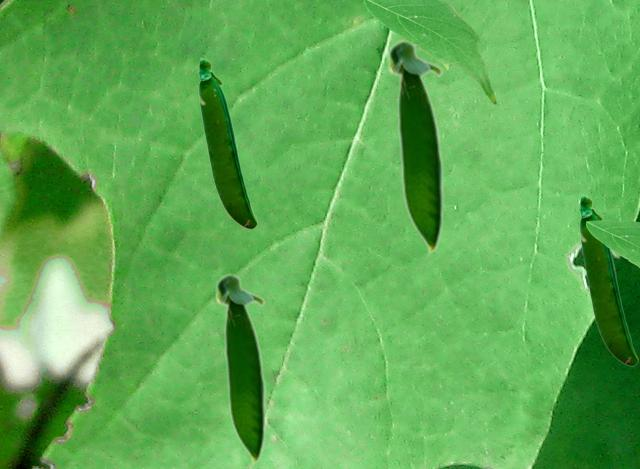pea: (386, 38, 443, 256), (197, 57, 256, 228), (578, 194, 637, 365), (214, 272, 265, 466)
